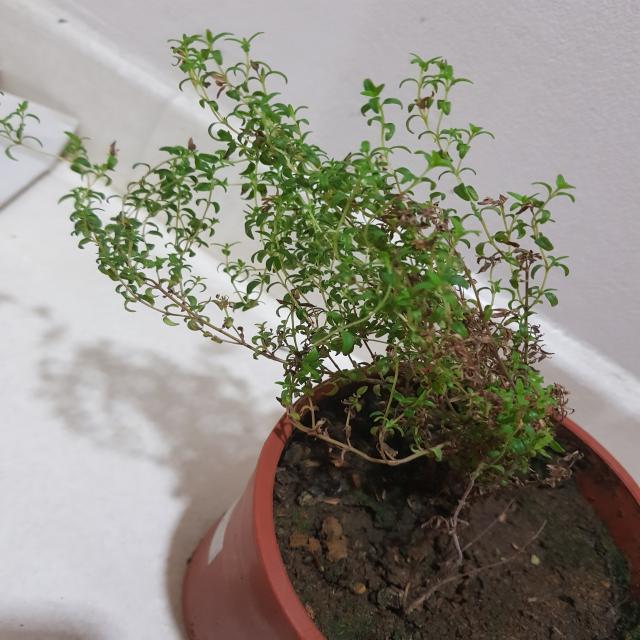Thyme: (41, 22, 591, 522)
